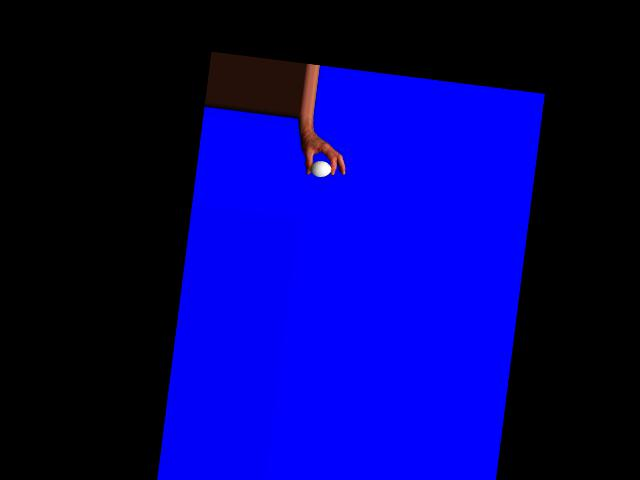egg: (309, 159, 332, 178)
